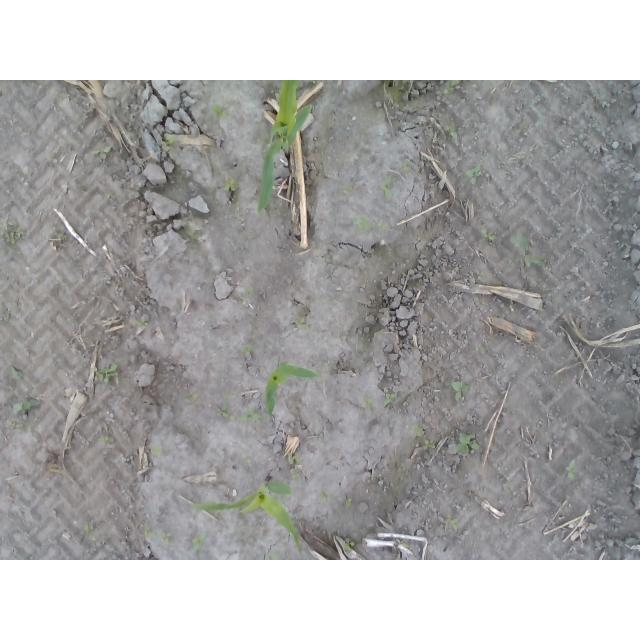Maize: (192, 474, 305, 554), (254, 80, 314, 216), (264, 363, 321, 418)
Weeds: (511, 228, 546, 268), (1, 215, 24, 246), (454, 430, 482, 455), (93, 362, 119, 385), (143, 527, 176, 545), (12, 397, 40, 416), (448, 378, 471, 401), (351, 212, 374, 234), (463, 161, 482, 186), (240, 405, 265, 423), (378, 174, 394, 202), (211, 101, 234, 120), (191, 531, 210, 553), (97, 425, 114, 448), (159, 134, 178, 154), (216, 407, 239, 422), (90, 144, 111, 160), (565, 457, 579, 481), (440, 80, 461, 96), (80, 522, 96, 540), (409, 423, 428, 438), (223, 176, 239, 193), (293, 313, 309, 330), (447, 128, 461, 145), (318, 489, 331, 507), (359, 399, 374, 414), (8, 366, 24, 380), (481, 230, 498, 243), (7, 419, 29, 429), (341, 537, 355, 552), (399, 161, 413, 176), (383, 392, 397, 407), (288, 452, 300, 464), (448, 516, 460, 528), (342, 182, 354, 194), (377, 223, 390, 234), (422, 439, 436, 449), (244, 287, 257, 297), (135, 319, 146, 330), (266, 553, 283, 560), (240, 344, 253, 353), (151, 446, 162, 456), (394, 539, 406, 548), (475, 271, 485, 281), (344, 498, 352, 510), (244, 456, 253, 465), (55, 232, 65, 240), (291, 473, 301, 481)
